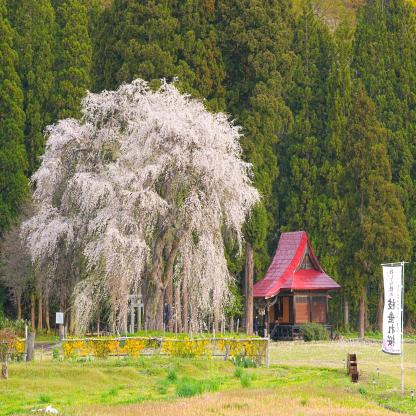ShidareZakura: (19, 74, 269, 341)
